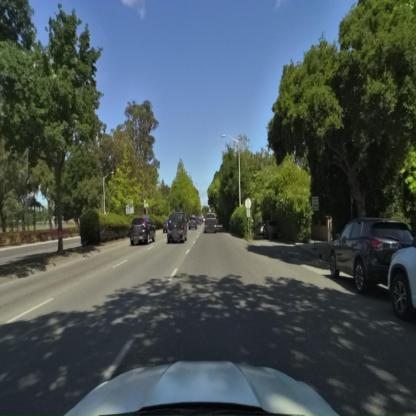car: (328, 218, 414, 293), (382, 237, 416, 313), (130, 217, 156, 245), (203, 216, 217, 234), (189, 217, 198, 229)
motorbike: (164, 218, 186, 244)
